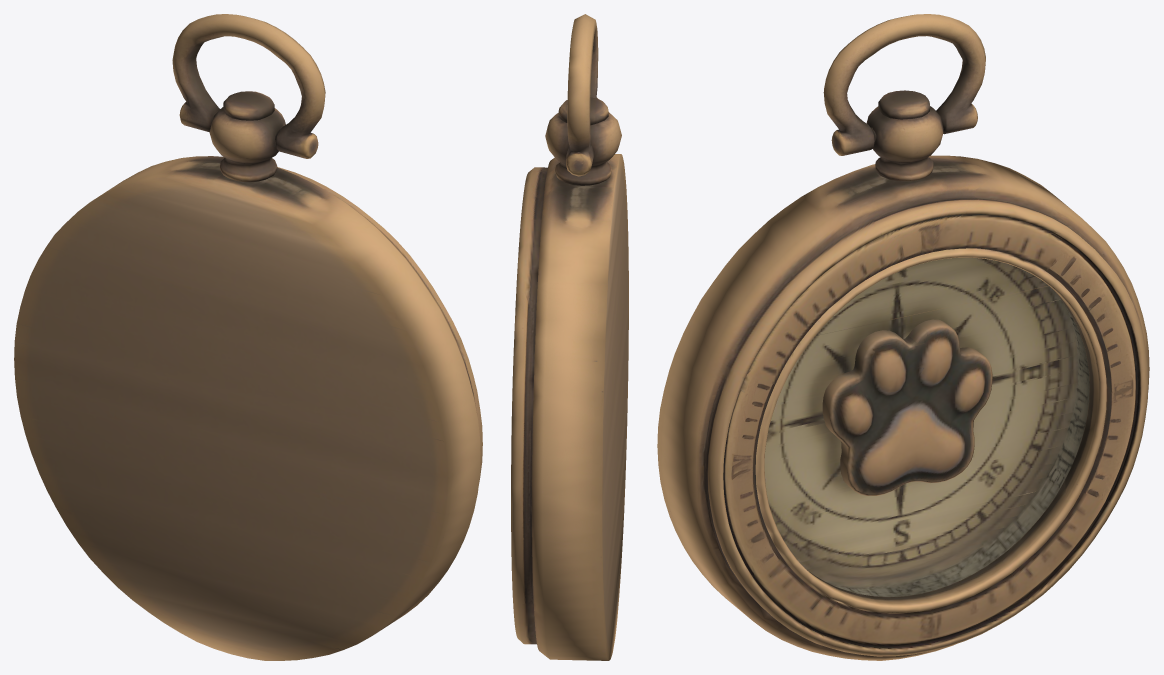
File: wandering-cat-compass.glb
3 views of the same model, side by side, from view 1: azimuth 30°, elevation 25°; view 2: azimuth 150°, elevation 25°; view 3: azimuth 270°, elevation 25° (orthographic). The views are drawn at different scales.
Parts seen in each view (by area): view 1: tripo_node_a44b0c85-f043-4f8c-82db-bb110e0c6e79; view 2: tripo_node_a44b0c85-f043-4f8c-82db-bb110e0c6e79; view 3: tripo_node_a44b0c85-f043-4f8c-82db-bb110e0c6e79.
Part boxes in pixels (left/top/right/bottom): tripo_node_a44b0c85-f043-4f8c-82db-bb110e0c6e79: left=14, top=14, right=482, bottom=660; tripo_node_a44b0c85-f043-4f8c-82db-bb110e0c6e79: left=511, top=14, right=628, bottom=660; tripo_node_a44b0c85-f043-4f8c-82db-bb110e0c6e79: left=657, top=14, right=1149, bottom=660.
Bounding box in the file's own units: 0.4468 × 0.9995 × 0.7088.
Materials: 1 (1 with a texture image).
